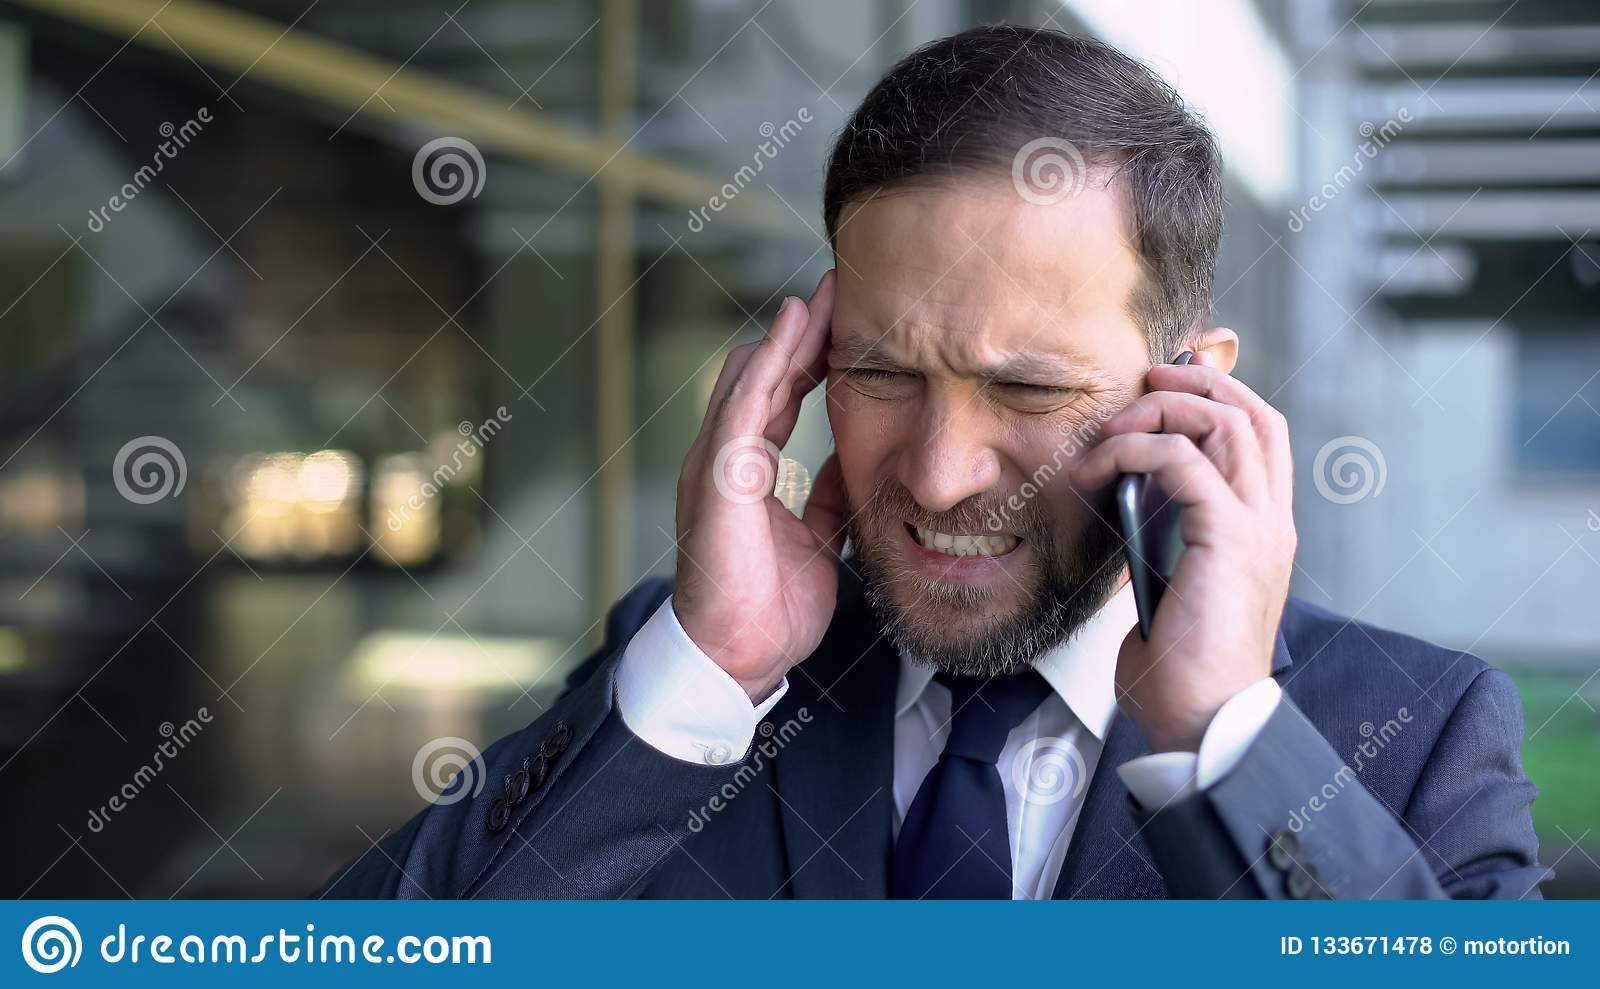phone: (1109, 342, 1215, 648)
talk: (827, 318, 1309, 766)
